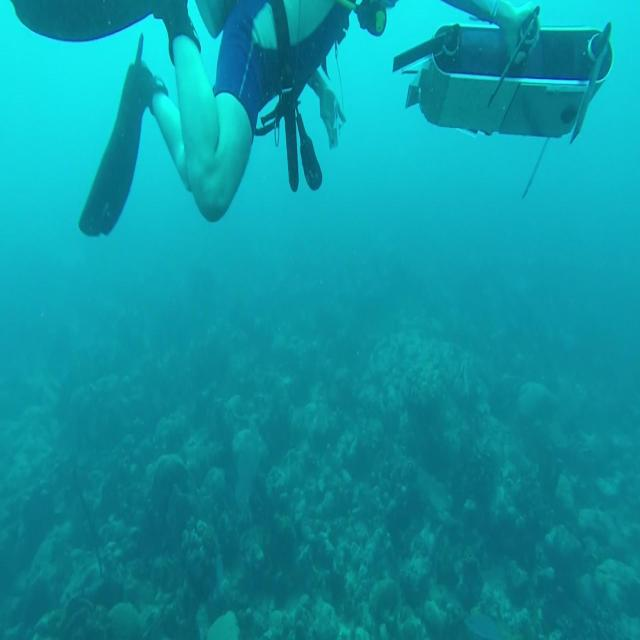human: (11, 0, 542, 238)
